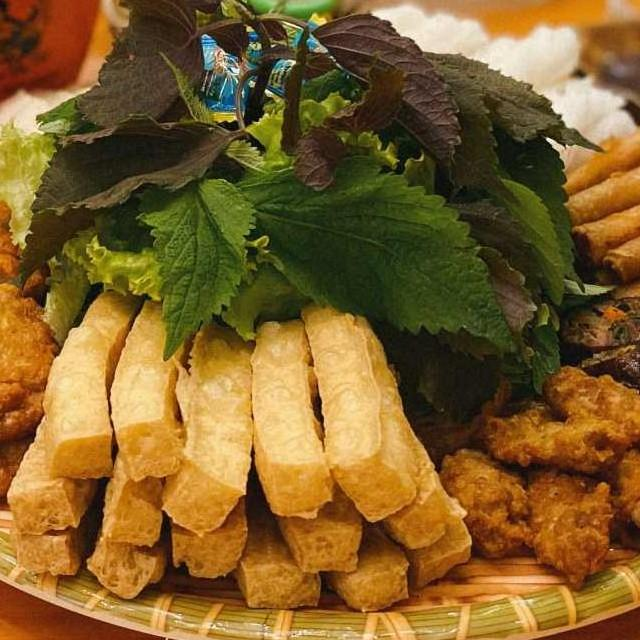bun: (366, 0, 637, 168)
bun dau: (0, 41, 640, 640)
cha com: (431, 359, 640, 593), (0, 176, 62, 504)
cha gio: (530, 106, 640, 304)
dau hu: (0, 269, 480, 615)
doi sun: (532, 255, 640, 439)
